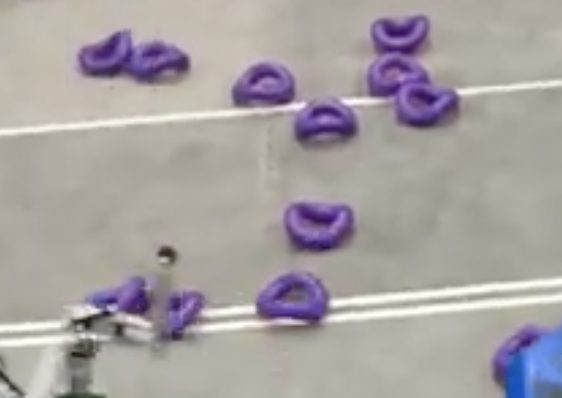ring: (256, 271, 327, 321), (284, 201, 354, 247), (492, 323, 547, 378), (231, 62, 295, 104), (394, 84, 458, 125), (368, 52, 429, 95), (77, 28, 133, 74), (125, 40, 190, 79), (296, 99, 357, 138), (89, 276, 148, 313), (371, 16, 429, 48), (168, 291, 203, 327)
